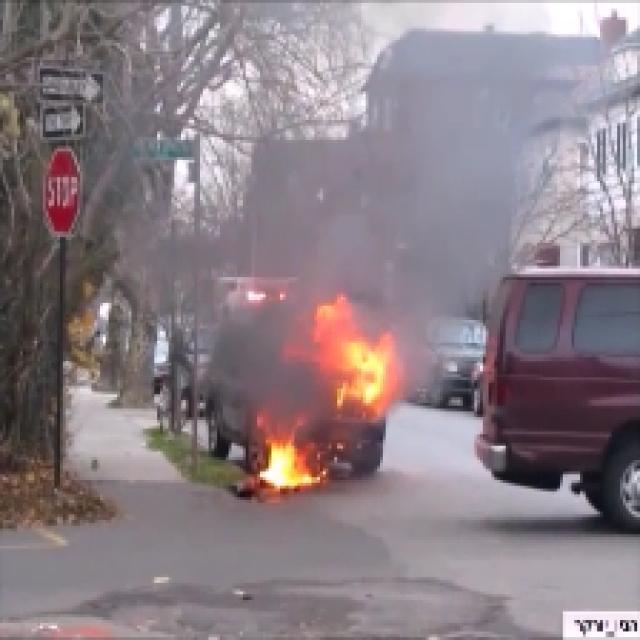Fire: (254, 436, 318, 487)
Smoke: (278, 152, 489, 305), (228, 326, 308, 428)
